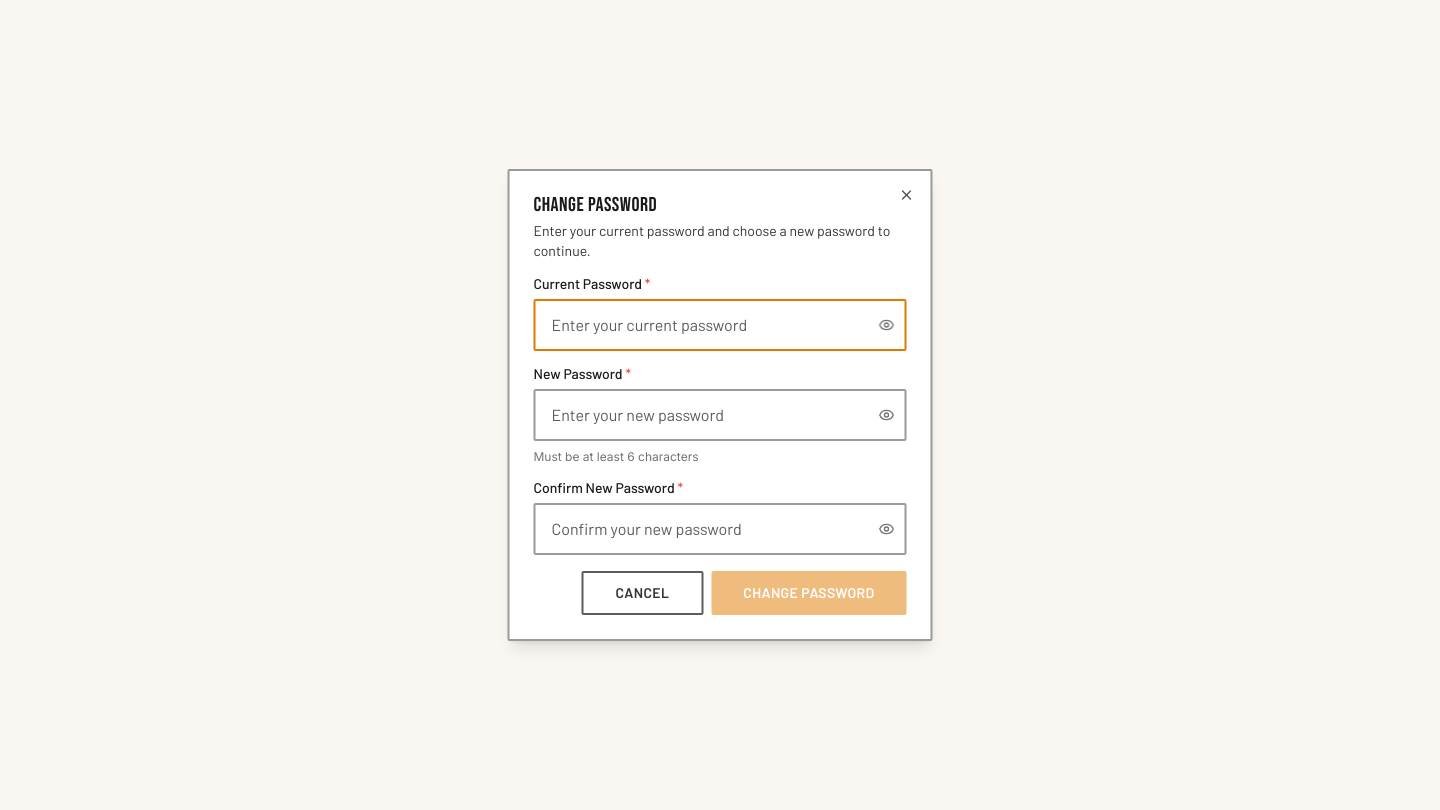
PasswordChangeForm › Form Validation › should require current password
The image size is (1440, 810).
In the password field labelled "New Password *": coordinates (720, 415) [534,389,906,441], type "newpassword123"
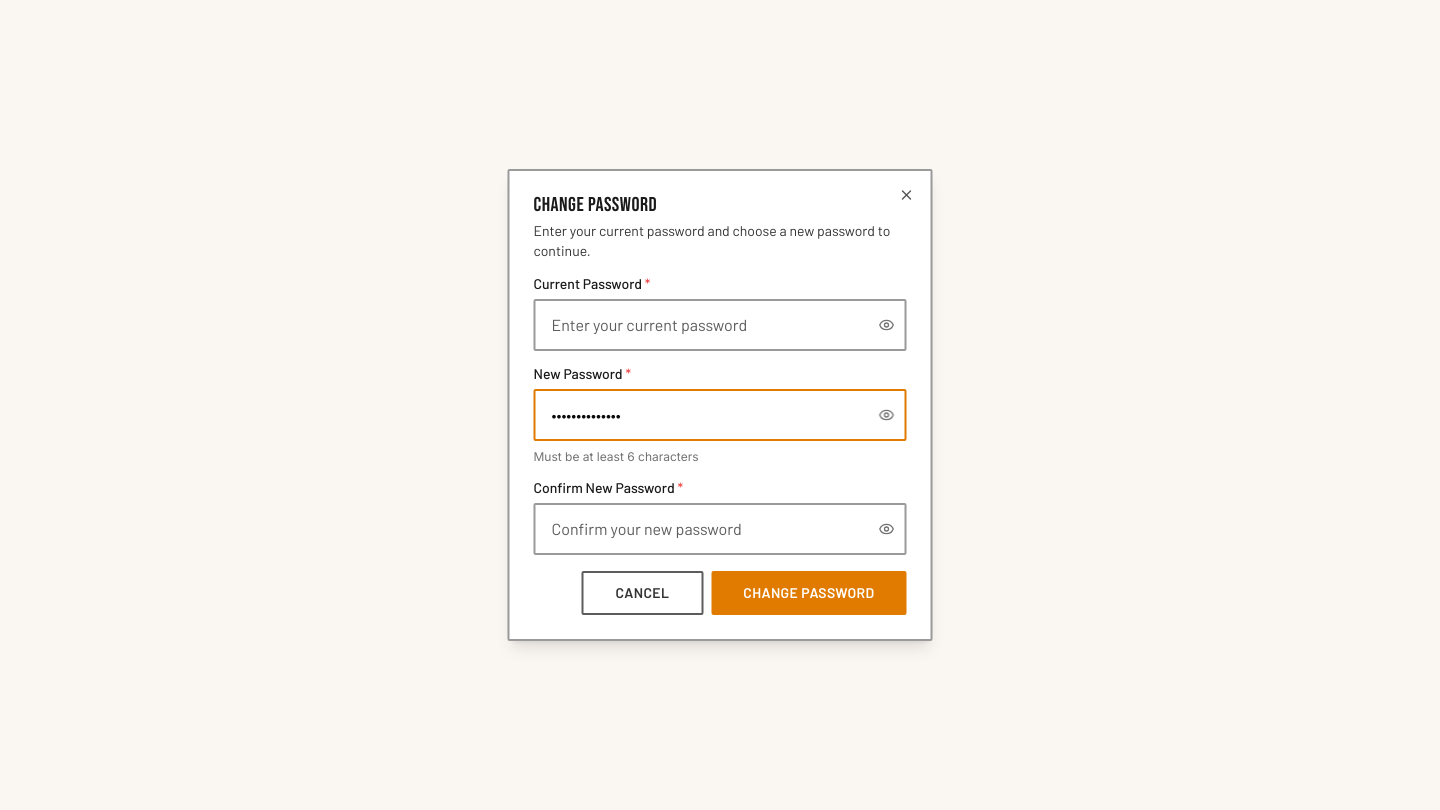
In the password field labelled "Confirm New Password *": coordinates (720, 529) [534,503,906,555], type "newpassword123"
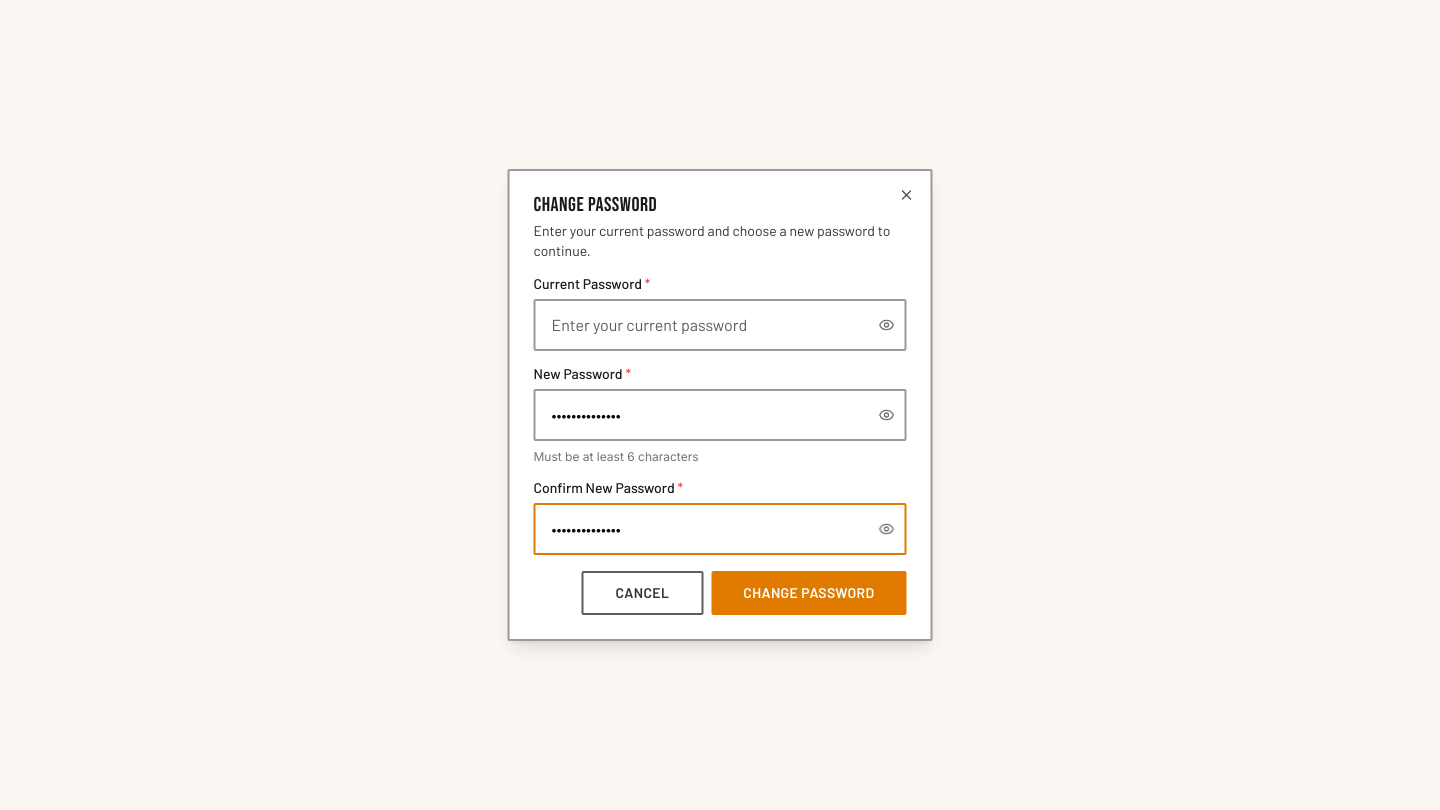
Click the button "Change Password": coordinates (809, 593) [711,571,906,615]
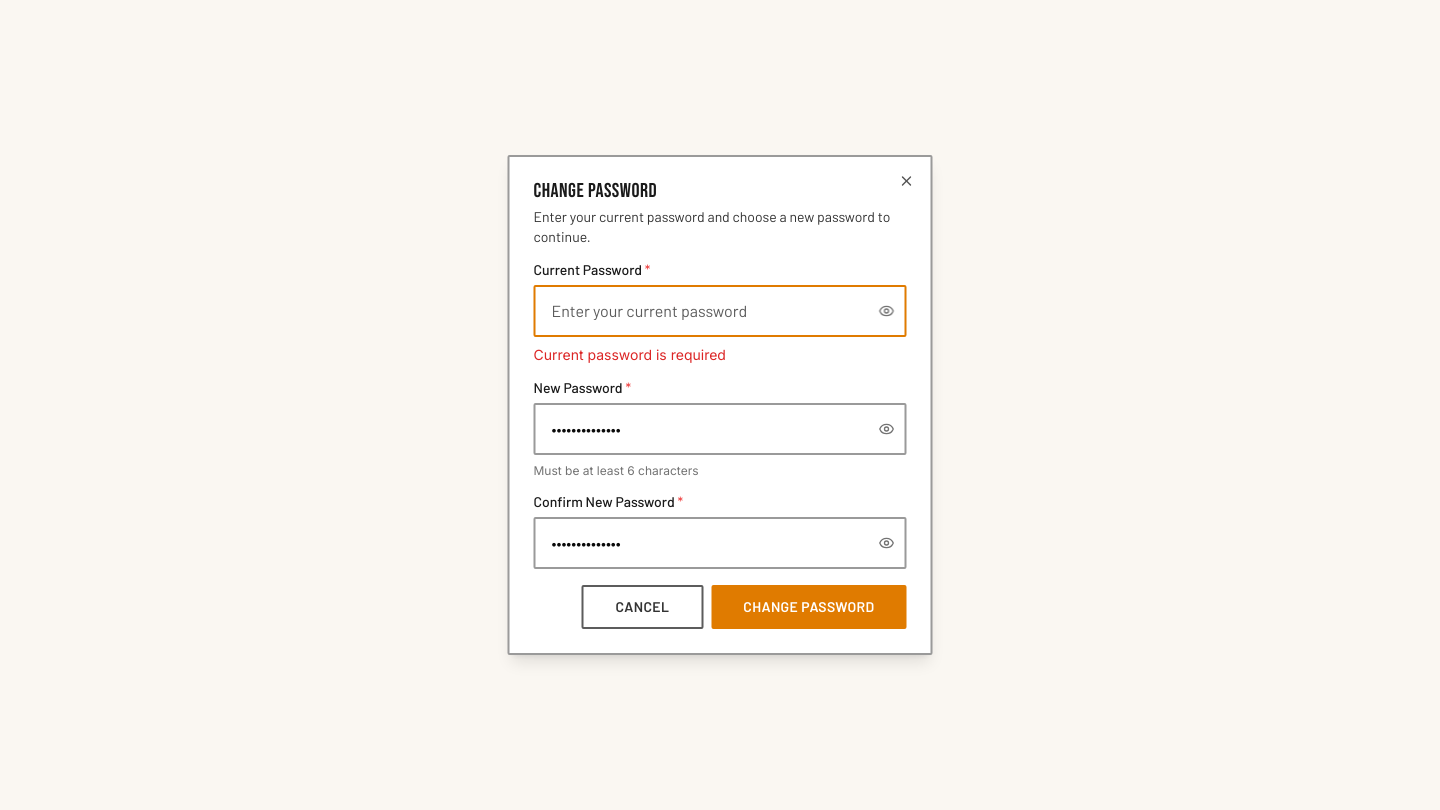
Check: the text "Current password is required" is shown, box [534,346,726,363]
